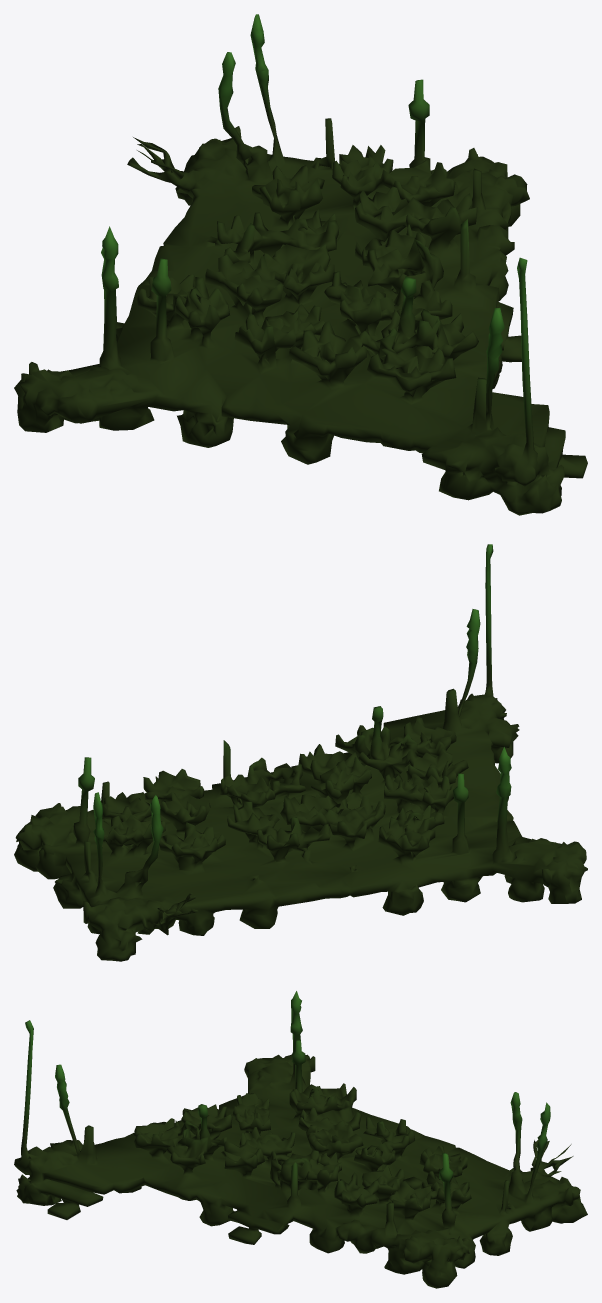
File: garden-stand.glb
3 views of the same model, one above another, from view 1: azimuth 30°, elevation 25°; view 2: azimuth 150°, elevation 25°; view 3: azimuth 270°, elevation 25° (orthographic). The views are drawn at different scales.
Parts seen in each view (by area): view 1: garden-stand; view 2: garden-stand; view 3: garden-stand.
Part boxes in pixels (<box>): garden-stand: <box>14,14,587,515</box>; garden-stand: <box>14,544,587,961</box>; garden-stand: <box>14,991,587,1288</box>.
Size of the model in its own units: 0.0429 by 0.0175 by 0.0519.
